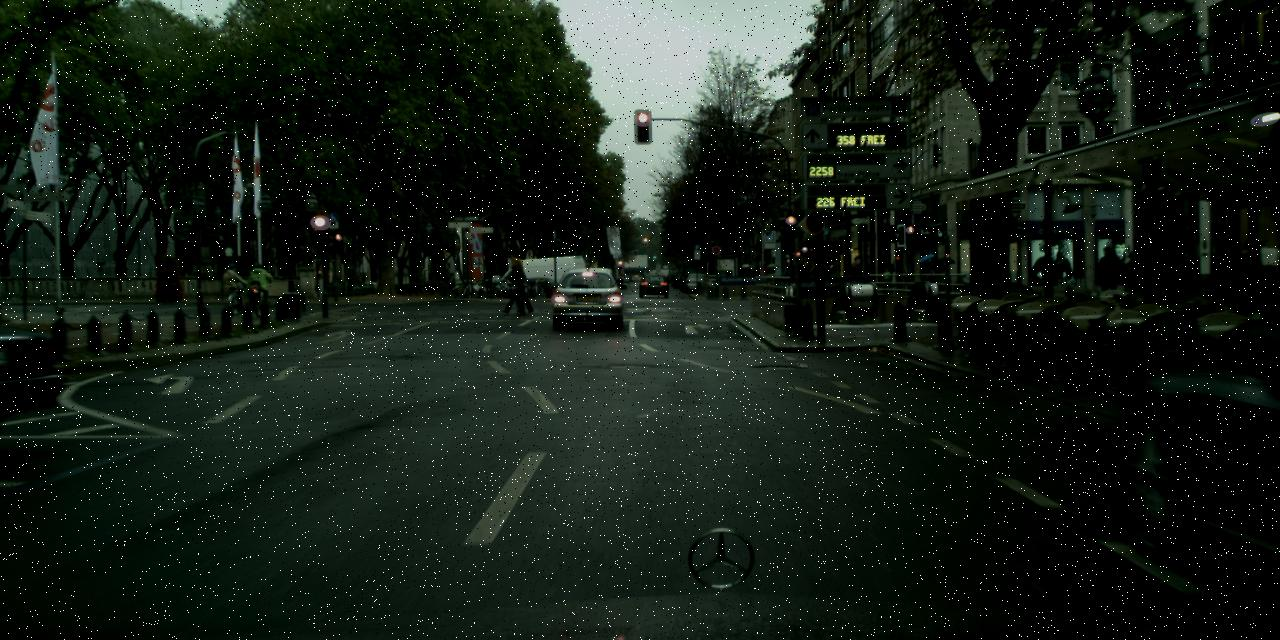ped: (1206, 238, 1276, 308), (500, 253, 534, 316), (1094, 246, 1120, 312), (1121, 252, 1146, 312), (248, 262, 267, 308), (223, 264, 241, 309), (879, 259, 893, 295), (933, 261, 946, 293), (924, 262, 937, 292), (794, 260, 816, 276), (852, 254, 862, 276), (864, 254, 870, 276), (783, 258, 790, 276)
